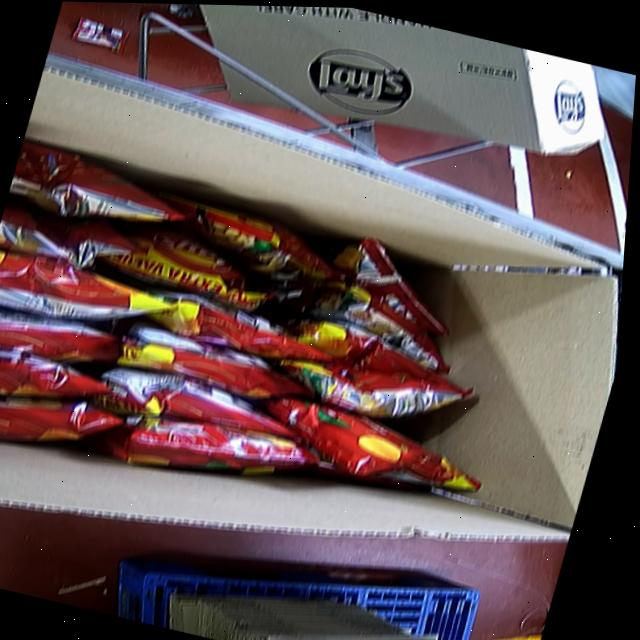MASALA: (0, 137, 550, 559)
